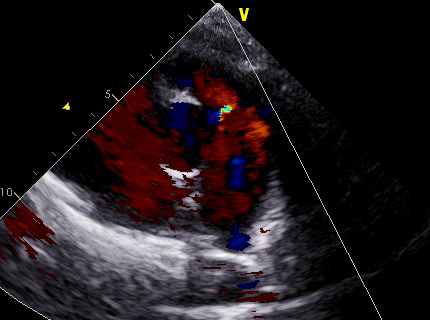PR: (200, 76, 275, 221)
